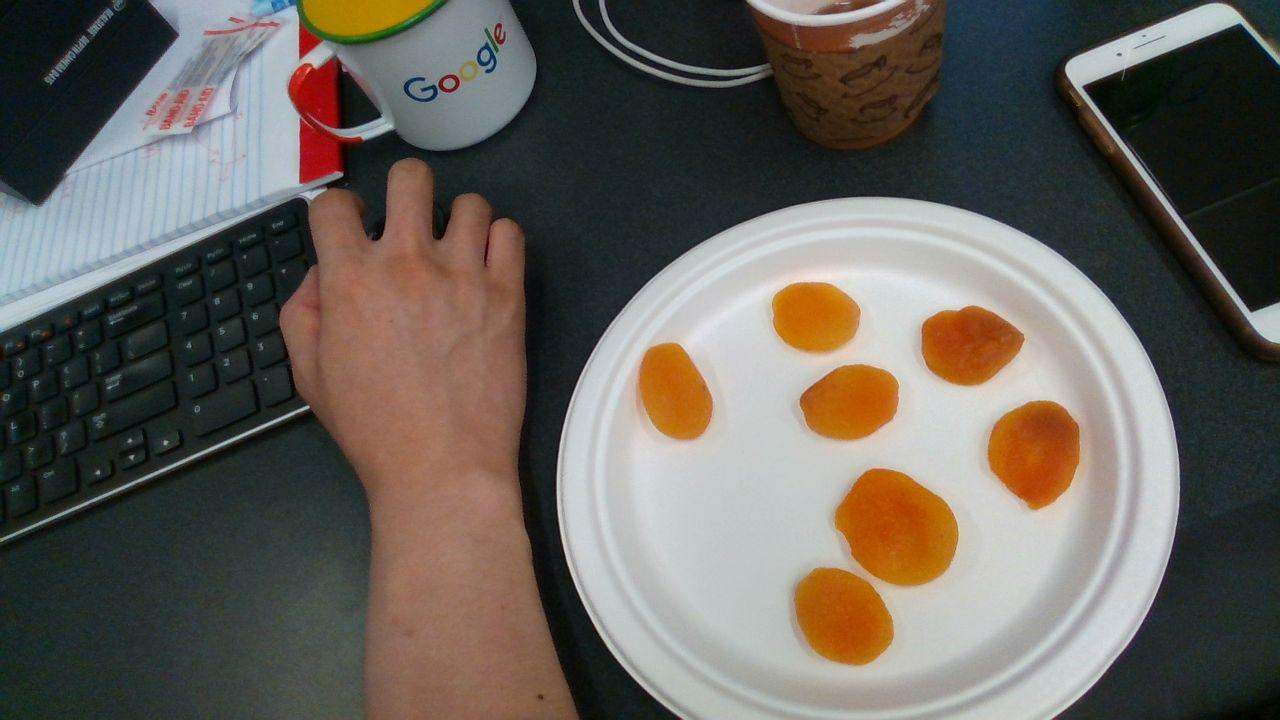apricot: (836, 468, 958, 587), (988, 402, 1079, 509), (795, 569, 893, 664), (924, 307, 1024, 384), (801, 365, 900, 440), (641, 344, 712, 440), (772, 282, 861, 351)
plate: (558, 197, 1179, 720)
